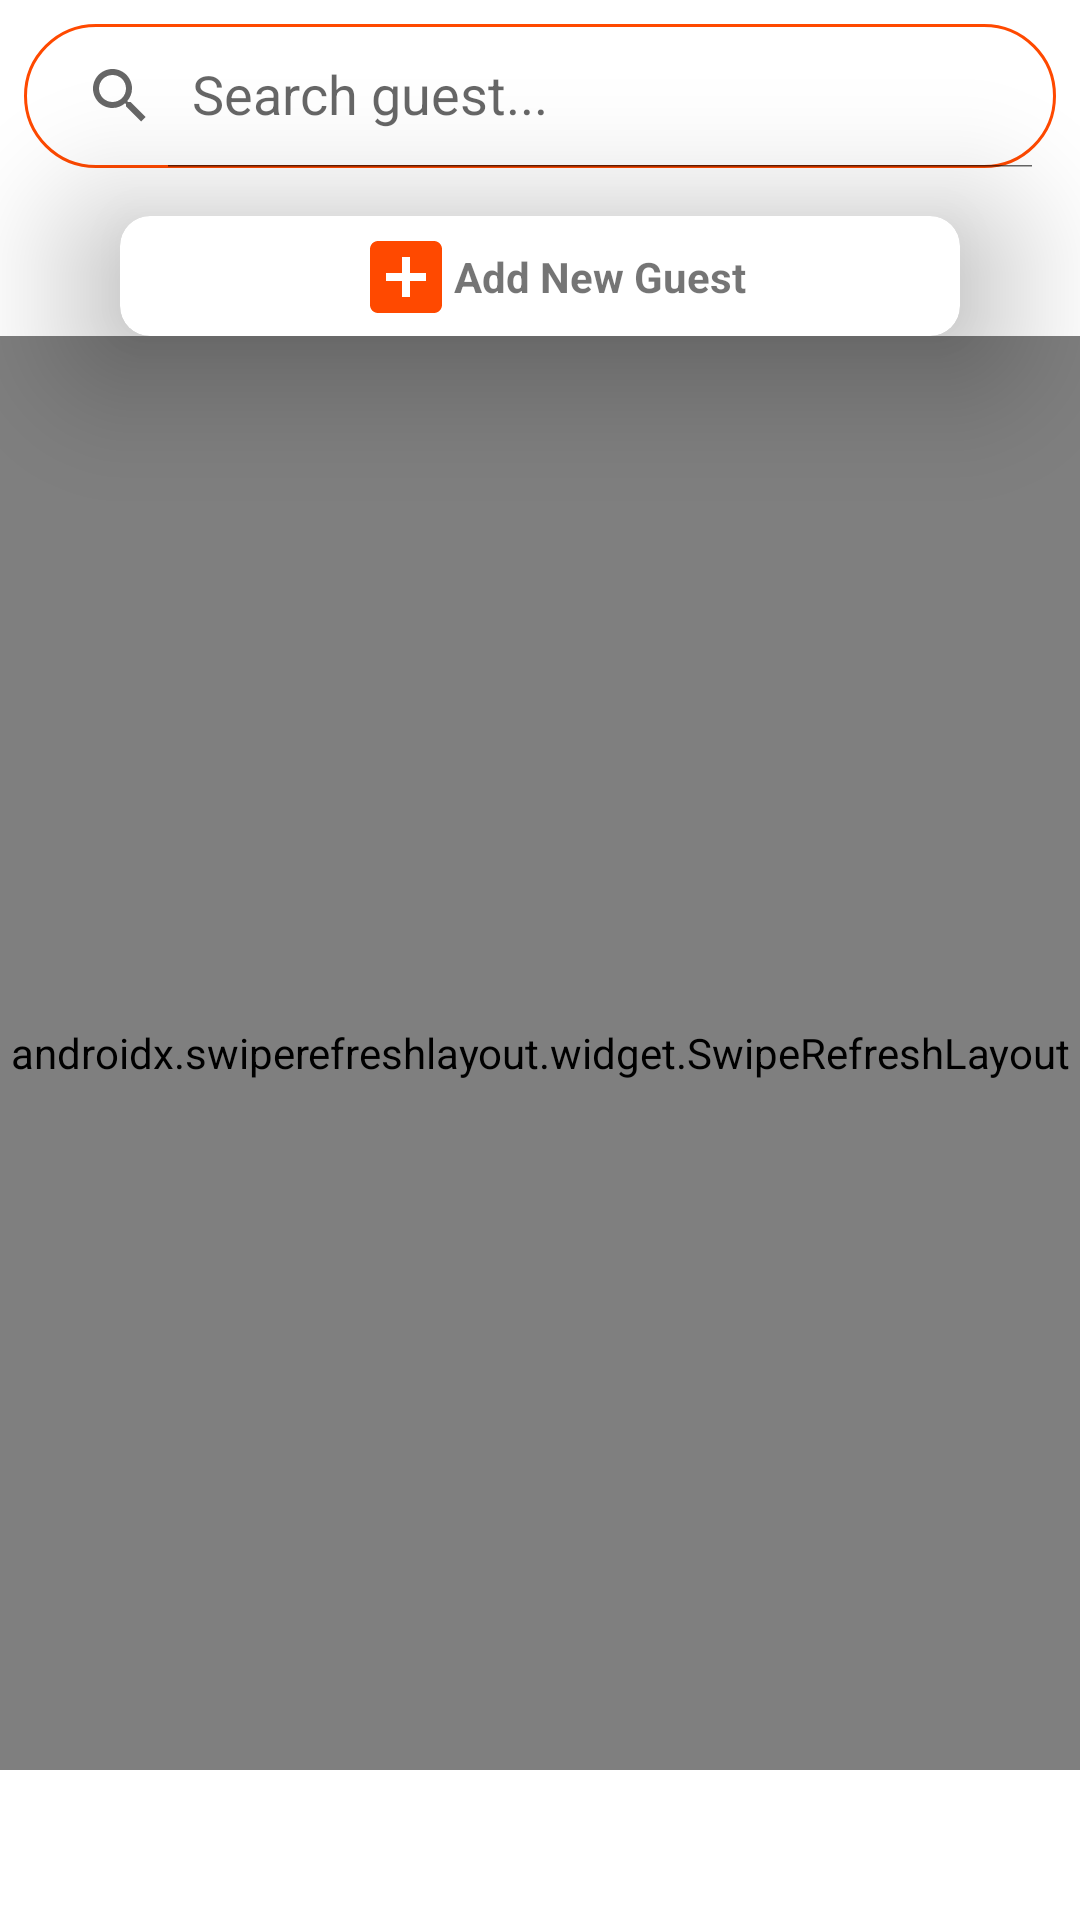

Icon click points for this 1080w x 1920h phone screenshot, format point (x, y):
add item: point (406, 277)
